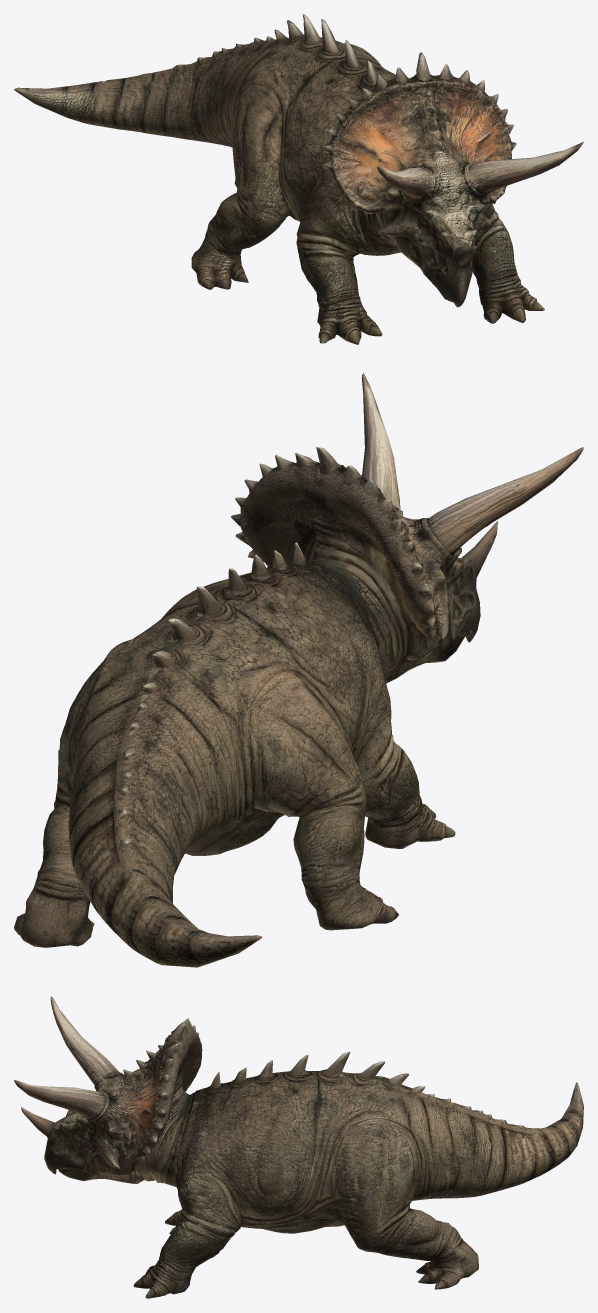
The model's file is triceratops.glb.
3 renders of one model, top to bottom at view 1: azimuth 30°, elevation 25°; view 2: azimuth 150°, elevation 25°; view 3: azimuth 270°, elevation 25°, orthographic. The views are drawn at different scales.
Size of the model in its own units: 0.9514 by 0.8586 by 1.9.
1 material, 1 textured.
